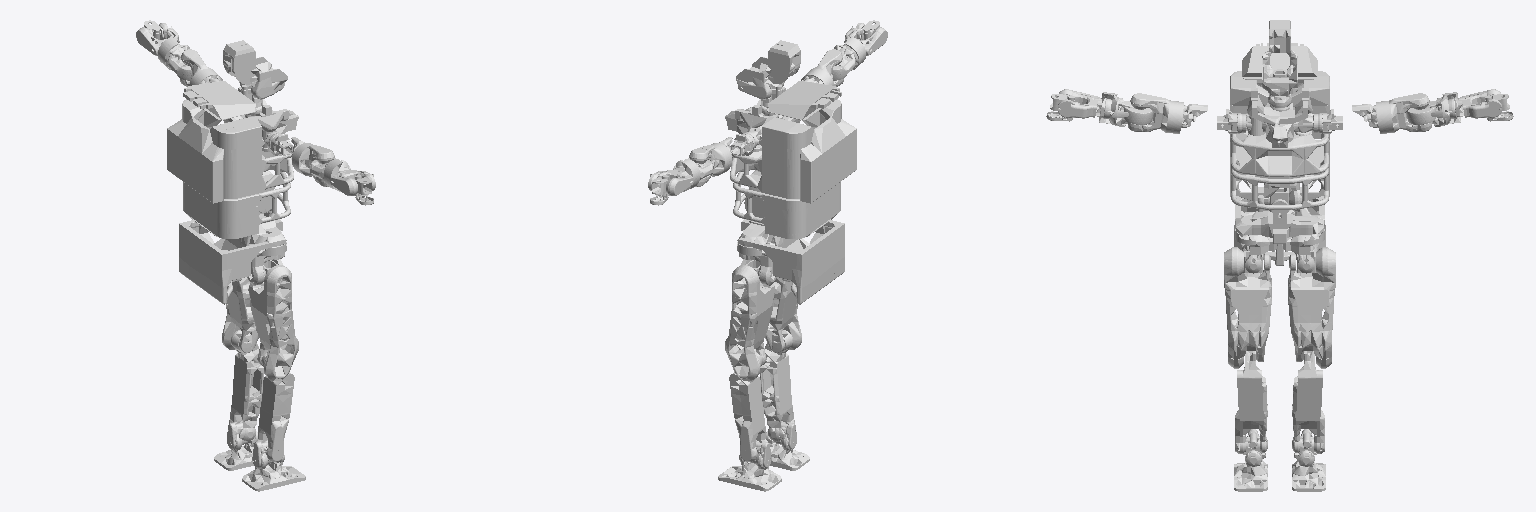
--- Facts derived from the render (not from the file) ---
3 views of the same robot in one strip: view 1: azimuth 30°, elevation 25°; view 2: azimuth 150°, elevation 25°; view 3: azimuth 270°, elevation 25° (orthographic).
Model JAXON with 57 links and 56 joints (37 revolute, 3 continuous, 16 fixed), rooted at BODY, posed all joints at 0 but 2 set to mid-range because 0 is outside their limits (LARM_JOINT2 = 1.71, RARM_JOINT2 = -1.71).
Visible links, largest first — view 1: CHEST_LINK2, BODY, RLEG_LINK2, CHEST_LINK1, LLEG_LINK3, RLEG_LINK3, HEAD_LINK1, LLEG_LINK2, RLEG_LINK5, RARM_LINK5, RARM_LINK3, LARM_LINK5 (+4 smaller); view 2: CHEST_LINK2, BODY, LLEG_LINK2, CHEST_LINK1, RLEG_LINK3, LLEG_LINK3, HEAD_LINK1, RLEG_LINK2, LLEG_LINK5, LARM_LINK5, LARM_LINK3, RARM_LINK5 (+4 smaller); view 3: CHEST_LINK2, LLEG_LINK2, RLEG_LINK2, BODY, CHEST_LINK1, LLEG_LINK3, RLEG_LINK3, HEAD_LINK1, LARM_LINK3, RARM_LINK3, LLEG_LINK5, RLEG_LINK5 (+6 smaller).
Link boxes in pixels (x1,y1,x2,y2): CHEST_LINK2: (167,81,298,203); BODY: (179,208,286,304); RLEG_LINK2: (248,265,298,380); CHEST_LINK1: (183,170,290,238); LLEG_LINK3: (229,330,263,441); RLEG_LINK3: (256,353,294,461); HEAD_LINK1: (223,40,287,99); LLEG_LINK2: (222,277,258,352); RLEG_LINK5: (242,452,305,491); RARM_LINK5: (324,159,375,195); RARM_LINK3: (292,143,334,186); LARM_LINK5: (136,23,179,69); CHEST_LINK2: (725,81,856,203); BODY: (737,219,844,304); LLEG_LINK2: (725,265,775,380); CHEST_LINK1: (733,170,840,238); RLEG_LINK3: (760,330,794,441); LLEG_LINK3: (729,353,767,461); HEAD_LINK1: (736,40,800,99); RLEG_LINK2: (765,277,801,352); LLEG_LINK5: (718,452,781,491); LARM_LINK5: (648,159,699,195); LARM_LINK3: (689,143,731,186); RARM_LINK5: (844,23,887,69); CHEST_LINK2: (1230,43,1329,176); LLEG_LINK2: (1288,247,1335,368); RLEG_LINK2: (1224,247,1271,368); BODY: (1234,188,1325,265); CHEST_LINK1: (1230,140,1329,211); LLEG_LINK3: (1292,351,1324,453); RLEG_LINK3: (1235,351,1267,453); HEAD_LINK1: (1262,20,1297,95); LARM_LINK3: (1376,93,1432,133); RARM_LINK3: (1127,93,1183,133); LLEG_LINK5: (1292,450,1325,491); RLEG_LINK5: (1234,450,1267,491).
Size in the robot's own frame: 0.4838 by 1.77 by 1.85 metres.
Meshes: 39 distinct files referenced, 32 mesh visuals loaded (32 Collada DAE); not drawn: 10 (reference not matched to a file when rendering).

robot.urdf — JAXON:
<?xml version="1.0" ?>
<!-- =================================================================================== -->
<!-- |    This document was autogenerated by xacro from [local-path]/ros/hydro/src/rtm-ros-robotics/rtmros_tutorials/hrpsys_ros_bridge_tutorials/models//JAXON.urdf.xacro | -->
<!-- |    EDITING THIS FILE BY HAND IS NOT RECOMMENDED                                 | -->
<!-- =================================================================================== -->
<robot name="JAXON" xmlns:xacro="http://ros.org/wiki/xacro" xmlns:xi="http://www.w3.org/2001/XInclude">
  <link name="BODY">
    <visual>
      <origin rpy="0 -0 0" xyz="0 0 1.0185"/>
      <geometry>
        <mesh filename="package://hrpsys_ros_bridge_tutorials/models/JAXON_meshes/BODY_mesh.dae" scale="1 1 1"/>
      </geometry>
    </visual>
    <collision>
      <origin rpy="0 -0 0" xyz="0 0 1.0185"/>
      <geometry>
        <mesh filename="package://hrpsys_ros_bridge_tutorials/models/JAXON_meshes/BODY_mesh.dae" scale="1 1 1"/>
      </geometry>
    </collision>
    <inertial>
      <mass value="22.7"/>
      <origin rpy="0 -0 0" xyz="-0.1059 -0.00067 -0.023"/>
      <inertia ixx="0.229835" ixy="0.00171" ixz="0.135708" iyy="0.535336" iyz="0.000616" izz="0.549159"/>
    </inertial>
  </link>
  <gazebo reference="BODY">
    <mu1>0.9</mu1>
    <mu2>0.9</mu2>
  </gazebo>
  <link name="CHEST_LINK0">
    <visual>
      <origin rpy="0 -0 0" xyz="0.006 0 0.128"/>
      <geometry>
        <mesh filename="package://hrpsys_ros_bridge_tutorials/models/JAXON_meshes/CHEST_LINK0_mesh.dae" scale="1 1 1"/>
      </geometry>
    </visual>
    <collision>
      <origin rpy="0 -0 0" xyz="0.006 0 0.128"/>
      <geometry>
        <mesh filename="package://hrpsys_ros_bridge_tutorials/models/JAXON_meshes/CHEST_LINK0_mesh.dae" scale="1 1 1"/>
      </geometry>
    </collision>
    <inertial>
      <mass value="0.866"/>
      <origin rpy="0 -0 0" xyz="-0.0084 0.00137 0.01359"/>
      <inertia ixx="0.00125384" ixy="0" ixz="0" iyy="0.00123407" iyz="0" izz="0.000677392"/>
    </inertial>
  </link>
  <gazebo reference="CHEST_LINK0">
    <mu1>0.9</mu1>
    <mu2>0.9</mu2>
  </gazebo>
  <link name="CHEST_LINK1">
    <visual>
      <origin rpy="0 -0 0" xyz="0 0 0.025"/>
      <geometry>
        <mesh filename="package://hrpsys_ros_bridge_tutorials/models/JAXON_meshes/CHEST_LINK1_mesh.dae" scale="1 1 1"/>
      </geometry>
    </visual>
    <collision>
      <origin rpy="0 -0 0" xyz="0 0 0.025"/>
      <geometry>
        <mesh filename="package://hrpsys_ros_bridge_tutorials/models/JAXON_meshes/CHEST_LINK1_mesh.dae" scale="1 1 1"/>
      </geometry>
    </collision>
    <inertial>
      <mass value="18.23"/>
      <origin rpy="0 -0 0" xyz="-0.111697 0.0039 0.03652"/>
      <inertia ixx="0.186526" ixy="0.003889" ixz="-0.039414" iyy="0.418012" iyz="0.001281" izz="0.477668"/>
    </inertial>
  </link>
  <gazebo reference="CHEST_LINK1">
    <mu1>0.9</mu1>
    <mu2>0.9</mu2>
  </gazebo>
  <link name="CHEST_LINK2">
    <visual>
      <origin rpy="0 -0 0" xyz="0 0 0.3085"/>
      <geometry>
        <mesh filename="package://hrpsys_ros_bridge_tutorials/models/JAXON_meshes/CHEST_LINK2_mesh.dae" scale="1 1 1"/>
      </geometry>
    </visual>
    <collision>
      <origin rpy="0 -0 0" xyz="0 0 0.3085"/>
      <geometry>
        <mesh filename="package://hrpsys_ros_bridge_tutorials/models/JAXON_meshes/CHEST_LINK2_mesh.dae" scale="1 1 1"/>
      </geometry>
    </collision>
    <inertial>
      <mass value="31.33"/>
      <origin rpy="0 -0 0" xyz="-0.13693 -0.00113 -0.05796"/>
      <inertia ixx="0.510746" ixy="0.005161" ixz="0.143334" iyy="1.09582" iyz="0.004687" izz="1.02505"/>
    </inertial>
  </link>
  <gazebo reference="CHEST_LINK2">
    <mu1>0.9</mu1>
    <mu2>0.9</mu2>
  </gazebo>
  <link name="HEAD_LINK0">
    <visual>
      <origin rpy="0 -0 0" xyz="-0.015 0 0.0835"/>
      <geometry>
        <mesh filename="package://hrpsys_ros_bridge_tutorials/models/JAXON_meshes/HEAD_LINK0_mesh.dae" scale="1 1 1"/>
      </geometry>
    </visual>
    <collision>
      <origin rpy="0 -0 0" xyz="-0.015 0 0.0835"/>
      <geometry>
        <mesh filename="package://hrpsys_ros_bridge_tutorials/models/JAXON_meshes/HEAD_LINK0_mesh.dae" scale="1 1 1"/>
      </geometry>
    </collision>
    <inertial>
      <mass value="1.086"/>
      <origin rpy="0 -0 0" xyz="-0.01227 3e-05 0.03231"/>
      <inertia ixx="0.0031" ixy="0" ixz="0" iyy="0.0035" iyz="0" izz="0.00119"/>
    </inertial>
  </link>
  <gazebo reference="HEAD_LINK0">
    <mu1>0.9</mu1>
    <mu2>0.9</mu2>
  </gazebo>
  <link name="HEAD_LINK1">
    <visual>
      <origin rpy="0 -0 0" xyz="0 0 0.102"/>
      <geometry>
        <mesh filename="package://hrpsys_ros_bridge_tutorials/models/JAXON_meshes/HEAD_LINK1_mesh.dae" scale="1 1 1"/>
      </geometry>
    </visual>
    <collision>
      <origin rpy="0 -0 0" xyz="0 0 0.102"/>
      <geometry>
        <mesh filename="package://hrpsys_ros_bridge_tutorials/models/JAXON_meshes/HEAD_LINK1_mesh.dae" scale="1 1 1"/>
      </geometry>
    </collision>
    <inertial>
      <mass value="4.274"/>
      <origin rpy="0 -0 0" xyz="0.042 0.004 0.058"/>
      <inertia ixx="0.035683" ixy="0.000877" ixz="-0.003172" iyy="0.040037" iyz="0.000652" izz="0.035345"/>
    </inertial>
  </link>
  <gazebo reference="HEAD_LINK1">
    <mu1>0.9</mu1>
    <mu2>0.9</mu2>
  </gazebo>
  <link name="LARM_LINK0">
    <visual>
      <origin rpy="0 -0 0" xyz="0 0.0875 0"/>
      <geometry>
        <mesh filename="package://hrpsys_ros_bridge_tutorials/models/JAXON_meshes/LARM_LINK0_mesh.dae" scale="1 1 1"/>
      </geometry>
    </visual>
    <collision>
      <origin rpy="0 -0 0" xyz="0 0.0875 0"/>
      <geometry>
        <mesh filename="package://hrpsys_ros_bridge_tutorials/models/JAXON_meshes/LARM_LINK0_mesh.dae" scale="1 1 1"/>
      </geometry>
    </collision>
    <inertial>
      <mass value="1.048"/>
      <origin rpy="0 -0 0" xyz="-0.01745 0.00887 -0.00015"/>
      <inertia ixx="0.0029762" ixy="0" ixz="0" iyy="0.00235085" iyz="0" izz="0.00355486"/>
    </inertial>
  </link>
  <gazebo reference="LARM_LINK0">
    <mu1>0.9</mu1>
    <mu2>0.9</mu2>
  </gazebo>
  <link name="LARM_LINK1">
    <visual>
      <origin rpy="0 -0 0" xyz="0 0.07275 0"/>
      <geometry>
        <mesh filename="package://hrpsys_ros_bridge_tutorials/models/JAXON_meshes/LARM_LINK1_mesh.dae" scale="1 1 1"/>
      </geometry>
    </visual>
    <collision>
      <origin rpy="0 -0 0" xyz="0 0.07275 0"/>
      <geometry>
        <mesh filename="package://hrpsys_ros_bridge_tutorials/models/JAXON_meshes/LARM_LINK1_mesh.dae" scale="1 1 1"/>
      </geometry>
    </collision>
    <inertial>
      <mass value="0.298"/>
      <origin rpy="0 -0 0" xyz="0.00011 0.01799 0.00288"/>
      <inertia ixx="0.000412035" ixy="0" ixz="0" iyy="0.000251611" iyz="0" izz="0.000376771"/>
    </inertial>
  </link>
  <gazebo reference="LARM_LINK1">
    <mu1>0.9</mu1>
    <mu2>0.9</mu2>
  </gazebo>
  <link name="LARM_LINK2">
    <visual>
      <origin rpy="0 -0 0" xyz="0 0.057 0"/>
      <geometry>
        <mesh filename="package://hrpsys_ros_bridge_tutorials/models/JAXON_meshes/LARM_LINK2_mesh.dae" scale="1 1 1"/>
      </geometry>
    </visual>
    <collision>
      <origin rpy="0 -0 0" xyz="0 0.057 0"/>
      <geometry>
        <mesh filename="package://hrpsys_ros_bridge_tutorials/models/JAXON_meshes/LARM_LINK2_mesh.dae" scale="1 1 1"/>
      </geometry>
    </collision>
    <inertial>
      <mass value="2.168"/>
      <origin rpy="0 -0 0" xyz="0.00845 0.00671 -0.0881"/>
      <inertia ixx="0.0127408" ixy="0" ixz="0" iyy="0.0133751" iyz="0" izz="0.00460362"/>
    </inertial>
  </link>
  <gazebo reference="LARM_LINK2">
    <mu1>0.9</mu1>
    <mu2>0.9</mu2>
  </gazebo>
  <link name="LARM_LINK3">
    <visual>
      <origin rpy="0 -0 0" xyz="0 0 -0.1965"/>
      <geometry>
        <mesh filename="package://hrpsys_ros_bridge_tutorials/models/JAXON_meshes/LARM_LINK3_mesh.dae" scale="1 1 1"/>
      </geometry>
    </visual>
    <collision>
      <origin rpy="0 -0 0" xyz="0 0 -0.1965"/>
      <geometry>
        <mesh filename="package://hrpsys_ros_bridge_tutorials/models/JAXON_meshes/LARM_LINK3_mesh.dae" scale="1 1 1"/>
      </geometry>
    </collision>
    <inertial>
      <mass value="1.315"/>
      <origin rpy="0 -0 0" xyz="0.01393 4e-05 -0.07574"/>
      <inertia ixx="0.00451716" ixy="0" ixz="0" iyy="0.0055237" iyz="0" izz="0.00217053"/>
    </inertial>
  </link>
  <gazebo reference="LARM_LINK3">
    <mu1>0.9</mu1>
    <mu2>0.9</mu2>
  </gazebo>
  <link name="LARM_LINK4">
    <visual>
      <origin rpy="0 -0 0" xyz="0 0 -0.126"/>
      <geometry>
        <mesh filename="package://hrpsys_ros_bridge_tutorials/models/JAXON_meshes/LARM_LINK4_mesh.dae" scale="1 1 1"/>
      </geometry>
    </visual>
    <collision>
      <origin rpy="0 -0 0" xyz="0 0 -0.126"/>
      <geometry>
        <mesh filename="package://hrpsys_ros_bridge_tutorials/models/JAXON_meshes/LARM_LINK4_mesh.dae" scale="1 1 1"/>
      </geometry>
    </collision>
    <inertial>
      <mass value="1.641"/>
      <origin rpy="0 -0 0" xyz="3e-05 0.00551 -0.0426"/>
      <inertia ixx="0.00665559" ixy="0" ixz="0" iyy="0.00598857" iyz="0" izz="0.00288237"/>
    </inertial>
  </link>
  <gazebo reference="LARM_LINK4">
    <mu1>0.9</mu1>
    <mu2>0.9</mu2>
  </gazebo>
  <link name="LARM_LINK5">
    <visual>
      <origin rpy="0 -0 0" xyz="0 0 -0.1275"/>
      <geometry>
        <mesh filename="package://hrpsys_ros_bridge_tutorials/models/JAXON_meshes/LARM_LINK5_mesh.dae" scale="1 1 1"/>
      </geometry>
    </visual>
    <collision>
      <origin rpy="0 -0 0" xyz="0 0 -0.1275"/>
      <geometry>
        <mesh filename="package://hrpsys_ros_bridge_tutorials/models/JAXON_meshes/LARM_LINK5_mesh.dae" scale="1 1 1"/>
      </geometry>
    </collision>
    <inertial>
      <mass value="1.305"/>
      <origin rpy="0 -0 0" xyz="0.01271 2e-05 -0.08415"/>
      <inertia ixx="0.00533939" ixy="0" ixz="0" iyy="0.00624028" iyz="0" izz="0.00205604"/>
    </inertial>
  </link>
  <gazebo reference="LARM_LINK5">
    <mu1>0.9</mu1>
    <mu2>0.9</mu2>
  </gazebo>
  <link name="LARM_LINK6">
    <visual>
      <origin rpy="0 -0 0" xyz="0 0 -0.146"/>
      <geometry>
        <mesh filename="package://hrpsys_ros_bridge_tutorials/models/JAXON_meshes/LARM_LINK6_mesh.dae" scale="1 1 1"/>
      </geometry>
    </visual>
    <collision>
      <origin rpy="0 -0 0" xyz="0 0 -0.146"/>
      <geometry>
        <mesh filename="package://hrpsys_ros_bridge_tutorials/models/JAXON_meshes/LARM_LINK6_mesh.dae" scale="1 1 1"/>
      </geometry>
    </collision>
    <inertial>
      <mass value="0.505"/>
      <origin rpy="0 -0 0" xyz="0.00013 0.01427 0.00188"/>
      <inertia ixx="0.000901789" ixy="0" ixz="0" iyy="0.000626727" iyz="0" izz="0.000593753"/>
    </inertial>
  </link>
  <gazebo reference="LARM_LINK6">
    <mu1>0.9</mu1>
    <mu2>0.9</mu2>
  </gazebo>
  <link name="RARM_LINK0">
    <visual>
      <origin rpy="0 -0 0" xyz="0 -0.0875 0"/>
      <geometry>
        <mesh filename="package://hrpsys_ros_bridge_tutorials/models/JAXON_meshes/RARM_LINK0_mesh.dae" scale="1 1 1"/>
      </geometry>
    </visual>
    <collision>
      <origin rpy="0 -0 0" xyz="0 -0.0875 0"/>
      <geometry>
        <mesh filename="package://hrpsys_ros_bridge_tutorials/models/JAXON_meshes/RARM_LINK0_mesh.dae" scale="1 1 1"/>
      </geometry>
    </collision>
    <inertial>
      <mass value="1.048"/>
      <origin rpy="0 -0 0" xyz="-0.01745 -0.00887 -0.00015"/>
      <inertia ixx="0.0029762" ixy="0" ixz="0" iyy="0.00235085" iyz="0" izz="0.00355486"/>
    </inertial>
  </link>
  <gazebo reference="RARM_LINK0">
    <mu1>0.9</mu1>
    <mu2>0.9</mu2>
  </gazebo>
  <link name="RARM_LINK1">
    <visual>
      <origin rpy="0 -0 0" xyz="0 -0.07275 0"/>
      <geometry>
        <mesh filename="package://hrpsys_ros_bridge_tutorials/models/JAXON_meshes/RARM_LINK1_mesh.dae" scale="1 1 1"/>
      </geometry>
    </visual>
    <collision>
      <origin rpy="0 -0 0" xyz="0 -0.07275 0"/>
      <geometry>
        <mesh filename="package://hrpsys_ros_bridge_tutorials/models/JAXON_meshes/RARM_LINK1_mesh.dae" scale="1 1 1"/>
      </geometry>
    </collision>
    <inertial>
      <mass value="0.298"/>
      <origin rpy="0 -0 0" xyz="0.00011 -0.01799 0.00288"/>
      <inertia ixx="0.000412035" ixy="0" ixz="0" iyy="0.000251611" iyz="0" izz="0.000376771"/>
    </inertial>
  </link>
  <gazebo reference="RARM_LINK1">
    <mu1>0.9</mu1>
    <mu2>0.9</mu2>
  </gazebo>
  <link name="RARM_LINK2">
    <visual>
      <origin rpy="0 -0 0" xyz="0 -0.057 0"/>
      <geometry>
        <mesh filename="package://hrpsys_ros_bridge_tutorials/models/JAXON_meshes/RARM_LINK2_mesh.dae" scale="1 1 1"/>
      </geometry>
    </visual>
    <collision>
      <origin rpy="0 -0 0" xyz="0 -0.057 0"/>
      <geometry>
        <mesh filename="package://hrpsys_ros_bridge_tutorials/models/JAXON_meshes/RARM_LINK2_mesh.dae" scale="1 1 1"/>
      </geometry>
    </collision>
    <inertial>
      <mass value="2.168"/>
      <origin rpy="0 -0 0" xyz="0.00845 -0.00671 -0.0881"/>
      <inertia ixx="0.0127408" ixy="0" ixz="0" iyy="0.0133751" iyz="0" izz="0.00460362"/>
    </inertial>
  </link>
  <gazebo reference="RARM_LINK2">
    <mu1>0.9</mu1>
    <mu2>0.9</mu2>
  </gazebo>
  <link name="RARM_LINK3">
    <visual>
      <origin rpy="0 -0 0" xyz="0 0 -0.1965"/>
      <geometry>
        <mesh filename="package://hrpsys_ros_bridge_tutorials/models/JAXON_meshes/RARM_LINK3_mesh.dae" scale="1 1 1"/>
      </geometry>
    </visual>
    <collision>
      <origin rpy="0 -0 0" xyz="0 0 -0.1965"/>
      <geometry>
        <mesh filename="package://hrpsys_ros_bridge_tutorials/models/JAXON_meshes/RARM_LINK3_mesh.dae" scale="1 1 1"/>
      </geometry>
    </collision>
    <inertial>
      <mass value="1.315"/>
      <origin rpy="0 -0 0" xyz="0.01393 -4e-05 -0.07574"/>
      <inertia ixx="0.00451716" ixy="0" ixz="0" iyy="0.0055237" iyz="0" izz="0.00217053"/>
    </inertial>
  </link>
  <gazebo reference="RARM_LINK3">
    <mu1>0.9</mu1>
    <mu2>0.9</mu2>
  </gazebo>
  <link name="RARM_LINK4">
    <visual>
      <origin rpy="0 -0 0" xyz="0 0 -0.126"/>
      <geometry>
        <mesh filename="package://hrpsys_ros_bridge_tutorials/models/JAXON_meshes/RARM_LINK4_mesh.dae" scale="1 1 1"/>
      </geometry>
    </visual>
    <collision>
      <origin rpy="0 -0 0" xyz="0 0 -0.126"/>
      <geometry>
        <mesh filename="package://hrpsys_ros_bridge_tutorials/models/JAXON_meshes/RARM_LINK4_mesh.dae" scale="1 1 1"/>
      </geometry>
    </collision>
    <inertial>
      <mass value="1.641"/>
      <origin rpy="0 -0 0" xyz="3e-05 -0.00551 -0.0426"/>
      <inertia ixx="0.00665559" ixy="0" ixz="0" iyy="0.00598857" iyz="0" izz="0.00288237"/>
    </inertial>
  </link>
  <gazebo reference="RARM_LINK4">
    <mu1>0.9</mu1>
    <mu2>0.9</mu2>
  </gazebo>
  <link name="RARM_LINK5">
    <visual>
      <origin rpy="0 -0 0" xyz="0 0 -0.1275"/>
      <geometry>
        <mesh filename="package://hrpsys_ros_bridge_tutorials/models/JAXON_meshes/RARM_LINK5_mesh.dae" scale="1 1 1"/>
      </geometry>
    </visual>
    <collision>
      <origin rpy="0 -0 0" xyz="0 0 -0.1275"/>
      <geometry>
        <mesh filename="package://hrpsys_ros_bridge_tutorials/models/JAXON_meshes/RARM_LINK5_mesh.dae" scale="1 1 1"/>
      </geometry>
    </collision>
    <inertial>
      <mass value="1.305"/>
      <origin rpy="0 -0 0" xyz="0.01271 -2e-05 -0.08415"/>
      <inertia ixx="0.00533939" ixy="0" ixz="0" iyy="0.00624028" iyz="0" izz="0.00205604"/>
    </inertial>
  </link>
  <gazebo reference="RARM_LINK5">
    <mu1>0.9</mu1>
    <mu2>0.9</mu2>
  </gazebo>
  <link name="RARM_LINK6">
    <visual>
      <origin rpy="0 -0 0" xyz="0 0 -0.146"/>
      <geometry>
        <mesh filename="package://hrpsys_ros_bridge_tutorials/models/JAXON_meshes/RARM_LINK6_mesh.dae" scale="1 1 1"/>
      </geometry>
    </visual>
    <collision>
      <origin rpy="0 -0 0" xyz="0 0 -0.146"/>
      <geometry>
        <mesh filename="package://hrpsys_ros_bridge_tutorials/models/JAXON_meshes/RARM_LINK6_mesh.dae" scale="1 1 1"/>
      </geometry>
    </collision>
    <inertial>
      <mass value="0.505"/>
      <origin rpy="0 -0 0" xyz="0.00013 -0.01427 0.00188"/>
      <inertia ixx="0.000901789" ixy="0" ixz="0" iyy="0.000626727" iyz="0" izz="0.000593753"/>
    </inertial>
  </link>
  <gazebo reference="RARM_LINK6">
    <mu1>0.9</mu1>
    <mu2>0.9</mu2>
  </gazebo>
  <link name="LLEG_LINK0">
    <visual>
      <origin rpy="0 -0 0" xyz="0 0.1 0.0095"/>
      <geometry>
        <mesh filename="package://hrpsys_ros_bridge_tutorials/models/JAXON_meshes/LLEG_LINK0_mesh.dae" scale="1 1 1"/>
      </geometry>
    </visual>
    <collision>
      <origin rpy="0 -0 0" xyz="0 0.1 0.0095"/>
      <geometry>
        <mesh filename="package://hrpsys_ros_bridge_tutorials/models/JAXON_meshes/LLEG_LINK0_mesh.dae" scale="1 1 1"/>
      </geometry>
    </collision>
    <inertial>
      <mass value="2.915"/>
      <origin rpy="0 -0 0" xyz="-0.02299 -0.00588 -0.07031"/>
      <inertia ixx="0.00999808" ixy="-1.99354e-06" ixz="7.22147e-07" iyy="0.00999559" iyz="3.13302e-06" izz="0.00999172"/>
    </inertial>
  </link>
  <gazebo reference="LLEG_LINK0">
    <mu1>0.9</mu1>
    <mu2>0.9</mu2>
  </gazebo>
  <link name="LLEG_LINK1">
    <visual>
      <origin rpy="0 -0 0" xyz="0 0 -0.122"/>
      <geometry>
        <mesh filename="package://hrpsys_ros_bridge_tutorials/models/JAXON_meshes/LLEG_LINK1_mesh.dae" scale="1 1 1"/>
      </geometry>
    </visual>
    <collision>
      <origin rpy="0 -0 0" xyz="0 0 -0.122"/>
      <geometry>
        <mesh filename="package://hrpsys_ros_bridge_tutorials/models/JAXON_meshes/LLEG_LINK1_mesh.dae" scale="1 1 1"/>
      </geometry>
    </collision>
    <inertial>
      <mass value="1.199"/>
      <origin rpy="0 -0 0" xyz="-0.00441 0.00696 -0.00694"/>
      <inertia ixx="0.00299879" ixy="-3.30504e-37" ixz="9.70868e-20" iyy="0.00179963" iyz="4.51014e-37" izz="0.00343603"/>
    </inertial>
  </link>
  <gazebo reference="LLEG_LINK1">
    <mu1>0.9</mu1>
    <mu2>0.9</mu2>
  </gazebo>
  <link name="LLEG_LINK2">
    <visual>
      <origin rpy="0 -0 0" xyz="0 0 -0.01"/>
      <geometry>
        <mesh filename="package://hrpsys_ros_bridge_tutorials/models/JAXON_meshes/LLEG_LINK2_mesh.dae" scale="1 1 1"/>
      </geometry>
    </visual>
    <collision>
      <origin rpy="0 -0 0" xyz="0 0 -0.01"/>
      <geometry>
        <mesh filename="package://hrpsys_ros_bridge_tutorials/models/JAXON_meshes/LLEG_LINK2_mesh.dae" scale="1 1 1"/>
      </geometry>
    </collision>
    <inertial>
      <mass value="5.783"/>
      <origin rpy="0 -0 0" xyz="0.00658 0.03431 -0.18864"/>
      <inertia ixx="0.109779" ixy="0.0002015" ixz="0.00500356" iyy="0.109973" iyz="-0.00331032" izz="0.0103577"/>
    </inertial>
  </link>
  <gazebo reference="LLEG_LINK2">
    <mu1>0.9</mu1>
    <mu2>0.9</mu2>
  </gazebo>
  <link name="LLEG_LINK3">
    <visual>
      <origin rpy="0 -0 0" xyz="0 0 -0.38"/>
      <geometry>
        <mesh filename="package://hrpsys_ros_bridge_tutorials/models/JAXON_meshes/LLEG_LINK3_mesh.dae" scale="1 1 1"/>
      </geometry>
    </visual>
    <collision>
      <origin rpy="0 -0 0" xyz="0 0 -0.38"/>
      <geometry>
        <mesh filename="package://hrpsys_ros_bridge_tutorials/models/JAXON_meshes/LLEG_LINK3_mesh.dae" scale="1 1 1"/>
      </geometry>
    </collision>
    <inertial>
      <mass value="3.156"/>
      <origin rpy="0 -0 0" xyz="0.0176 0.01611 -0.17992"/>
      <inertia ixx="0.0592962" ixy="0" ixz="0" iyy="0.0592638" iyz="0" izz="0.00799027"/>
    </inertial>
  </link>
  <gazebo reference="LLEG_LINK3">
    <mu1>0.9</mu1>
    <mu2>0.9</mu2>
  </gazebo>
  <link name="LLEG_LINK4">
    <visual>
      <origin rpy="0 -0 0" xyz="0 0 -0.38"/>
      <geometry>
        <mesh filename="package://hrpsys_ros_bridge_tutorials/models/JAXON_meshes/LLEG_LINK4_mesh.dae" scale="1 1 1"/>
      </geometry>
    </visual>
    <collision>
      <origin rpy="0 -0 0" xyz="0 0 -0.38"/>
      <geometry>
        <mesh filename="package://hrpsys_ros_bridge_tutorials/models/JAXON_meshes/LLEG_LINK4_mesh.dae" scale="1 1 1"/>
      </geometry>
    </collision>
    <inertial>
      <mass value="0.836"/>
      <origin rpy="0 -0 0" xyz="-0.00769 0.00203 -0.00714"/>
      <inertia ixx="0.0014428" ixy="0" ixz="0" iyy="0.001606" iyz="0" izz="0.00150135"/>
    </inertial>
  </link>
  <gazebo reference="LLEG_LINK4">
    <mu1>0.9</mu1>
    <mu2>0.9</mu2>
  </gazebo>
  <link name="LLEG_LINK5">
    <visual>
      <origin rpy="0 -0 0" xyz="0 0 -0.04"/>
      <geometry>
        <mesh filename="package://hrpsys_ros_bridge_tutorials/models/JAXON_meshes/LLEG_LINK5_mesh.dae" scale="1 1 1"/>
      </geometry>
    </visual>
    <collision>
      <origin rpy="0 -0 0" xyz="0 0 -0.04"/>
      <geometry>
        <mesh filename="package://hrpsys_ros_bridge_tutorials/models/JAXON_meshes/LLEG_LINK5_mesh.dae" scale="1 1 1"/>
      </geometry>
    </collision>
    <inertial>
      <mass value="1.552"/>
      <origin rpy="0 -0 0" xyz="0.00064 0.00264 -0.05633"/>
      <inertia ixx="0.00442296" ixy="0" ixz="0" iyy="0.00907896" iyz="0" izz="0.00902826"/>
    </inertial>
  </link>
  <gazebo reference="LLEG_LINK5">
    <mu1>0.9</mu1>
    <mu2>0.9</mu2>
  </gazebo>
  <link name="RLEG_LINK0">
    <visual>
      <origin rpy="0 -0 0" xyz="0 -0.1 0.0095"/>
      <geometry>
        <mesh filename="package://hrpsys_ros_bridge_tutorials/models/JAXON_meshes/RLEG_LINK0_mesh.dae" scale="1 1 1"/>
      </geometry>
    </visual>
    <collision>
      <origin rpy="0 -0 0" xyz="0 -0.1 0.0095"/>
      <geometry>
        <mesh filename="package://hrpsys_ros_bridge_tutorials/models/JAXON_meshes/RLEG_LINK0_mesh.dae" scale="1 1 1"/>
      </geometry>
    </collision>
    <inertial>
      <mass value="2.915"/>
      <origin rpy="0 -0 0" xyz="-0.02299 0.00588 -0.07031"/>
      <inertia ixx="0.00999808" ixy="-1.99354e-06" ixz="-7.22147e-07" iyy="0.00999559" iyz="-3.13302e-06" izz="0.00999172"/>
    </inertial>
  </link>
  <gazebo reference="RLEG_LINK0">
    <mu1>0.9</mu1>
    <mu2>0.9</mu2>
  </gazebo>
  <link name="RLEG_LINK1">
    <visual>
      <origin rpy="0 -0 0" xyz="0 0 -0.122"/>
      <geometry>
        <mesh filename="package://hrpsys_ros_bridge_tutorials/models/JAXON_meshes/RLEG_LINK1_mesh.dae" scale="1 1 1"/>
      </geometry>
    </visual>
    <collision>
      <origin rpy="0 -0 0" xyz="0 0 -0.122"/>
      <geometry>
        <mesh filename="package://hrpsys_ros_bridge_tutorials/models/JAXON_meshes/RLEG_LINK1_mesh.dae" scale="1 1 1"/>
      </geometry>
    </collision>
    <inertial>
      <mass value="1.199"/>
      <origin rpy="0 -0 0" xyz="-0.00441 -0.00696 -0.00694"/>
      <inertia ixx="0.00299879" ixy="3.30504e-37" ixz="9.70868e-20" iyy="0.00179963" iyz="-4.51014e-37" izz="0.00343603"/>
    </inertial>
  </link>
  <gazebo reference="RLEG_LINK1">
    <mu1>0.9</mu1>
    <mu2>0.9</mu2>
  </gazebo>
  <link name="RLEG_LINK2">
    <visual>
      <origin rpy="0 -0 0" xyz="0 0 -0.01"/>
      <geometry>
        <mesh filename="package://hrpsys_ros_bridge_tutorials/models/JAXON_meshes/RLEG_LINK2_mesh.dae" scale="1 1 1"/>
      </geometry>
    </visual>
    <collision>
      <origin rpy="0 -0 0" xyz="0 0 -0.01"/>
      <geometry>
        <mesh filename="package://hrpsys_ros_bridge_tutorials/models/JAXON_meshes/RLEG_LINK2_mesh.dae" scale="1 1 1"/>
      </geometry>
    </collision>
    <inertial>
      <mass value="5.783"/>
      <origin rpy="0 -0 0" xyz="0.00658 -0.03431 -0.18864"/>
      <inertia ixx="0.109779" ixy="-0.0002015" ixz="0.00500356" iyy="0.109973" iyz="0.00331032" izz="0.0103577"/>
    </inertial>
  </link>
  <gazebo reference="RLEG_LINK2">
    <mu1>0.9</mu1>
    <mu2>0.9</mu2>
  </gazebo>
  <link name="RLEG_LINK3">
    <visual>
      <origin rpy="0 -0 0" xyz="0 0 -0.38"/>
      <geometry>
        <mesh filename="package://hrpsys_ros_bridge_tutorials/models/JAXON_meshes/RLEG_LINK3_mesh.dae" scale="1 1 1"/>
      </geometry>
    </visual>
    <collision>
      <origin rpy="0 -0 0" xyz="0 0 -0.38"/>
      <geometry>
        <mesh filename="package://hrpsys_ros_bridge_tutorials/models/JAXON_meshes/RLEG_LINK3_mesh.dae" scale="1 1 1"/>
      </geometry>
    </collision>
    <inertial>
      <mass value="3.156"/>
      <origin rpy="0 -0 0" xyz="0.0176 -0.01611 -0.17992"/>
      <inertia ixx="0.0592962" ixy="0" ixz="0" iyy="0.0592638" iyz="0" izz="0.00799027"/>
    </inertial>
  </link>
  <gazebo reference="RLEG_LINK3">
    <mu1>0.9</mu1>
    <mu2>0.9</mu2>
  </gazebo>
  <link name="RLEG_LINK4">
    <visual>
      <origin rpy="0 -0 0" xyz="0 0 -0.38"/>
      <geometry>
        <mesh filename="package://hrpsys_ros_bridge_tutorials/models/JAXON_meshes/RLEG_LINK4_mesh.dae" scale="1 1 1"/>
      </geometry>
    </visual>
    <collision>
      <origin rpy="0 -0 0" xyz="0 0 -0.38"/>
      <geometry>
        <mesh filename="package://hrpsys_ros_bridge_tutorials/models/JAXON_meshes/RLEG_LINK4_mesh.dae" scale="1 1 1"/>
      </geometry>
    </collision>
    <inertial>
      <mass value="0.836"/>
      <origin rpy="0 -0 0" xyz="-0.00769 -0.00203 -0.00714"/>
      <inertia ixx="0.0014428" ixy="0" ixz="0" iyy="0.001606" iyz="0" izz="0.00150135"/>
    </inertial>
  </link>
  <gazebo reference="RLEG_LINK4">
    <mu1>0.9</mu1>
    <mu2>0.9</mu2>
  </gazebo>
  <link name="RLEG_LINK5">
    <visual>
      <origin rpy="0 -0 0" xyz="0 0 -0.04"/>
      <geometry>
        <mesh filename="package://hrpsys_ros_bridge_tutorials/models/JAXON_meshes/RLEG_LINK5_mesh.dae" scale="1 1 1"/>
      </geometry>
    </visual>
    <collision>
      <origin rpy="0 -0 0" xyz="0 0 -0.04"/>
      <geometry>
        <mesh filename="package://hrpsys_ros_bridge_tutorials/models/JAXON_meshes/RLEG_LINK5_mesh.dae" scale="1 1 1"/>
      </geometry>
    </collision>
    <inertial>
      <mass value="1.552"/>
      <origin rpy="0 -0 0" xyz="0.00064 -0.00264 -0.05633"/>
      <inertia ixx="0.00442296" ixy="0" ixz="0" iyy="0.00907896" iyz="0" izz="0.00902826"/>
    </inertial>
  </link>
  <gazebo reference="RLEG_LINK5">
    <mu1>0.9</mu1>
    <mu2>0.9</mu2>
  </gazebo>
  <joint name="CHEST_JOINT0" type="revolute">
    <parent link="BODY"/>
    <child link="CHEST_LINK0"/>
    <origin rpy="0 -0 0 " xyz="0.006 0 0.128"/>
    <axis xyz="1 0 0"/>
    <limit effort="787.2" lower="-0.198551" upper="0.198551" velocity="4"/>
    <dynamics damping="0.2" friction="0"/>
  </joint>
  <transmission name="CHEST_JOINT0_trans" type="pr2_mechanism_model/SimpleTransmission">
    <actuator name="CHEST_JOINT0_motor"/>
    <joint name="CHEST_JOINT0"/>
    <mechanicalReduction>1</mechanicalReduction>
  </transmission>
  <gazebo reference="CHEST_JOINT0">
    <cfmDamping>0.4</cfmDamping>
  </gazebo>
  <joint name="CHEST_JOINT1" type="revolute">
    <parent link="CHEST_LINK0"/>
    <child link="CHEST_LINK1"/>
    <origin rpy="0 -0 0 " xyz="0 0 0.025"/>
    <axis xyz="0 1 0"/>
    <limit effort="787.2" lower="-0.0523599" upper="0.610865" velocity="4"/>
    <dynamics damping="0.2" friction="0"/>
  </joint>
  <transmission name="CHEST_JOINT1_trans" type="pr2_mechanism_model/SimpleTransmission">
    <actuator name="CHEST_JOINT1_motor"/>
    <joint name="CHEST_JOINT1"/>
    <mechanicalReduction>1</mechanicalReduction>
  </transmission>
  <gazebo reference="CHEST_JOINT1">
    <cfmDamping>0.4</cfmDamping>
  </gazebo>
  <joint name="CHEST_JOINT2" type="revolute">
    <parent link="CHEST_LINK1"/>
    <child link="CHEST_LINK2"/>
    <origin rpy="0 -0 0 " xyz="0 0 0.3085"/>
    <axis xyz="0 0 1"/>
    <limit effort="393.6" lower="-1.0566" upper="1.0566" velocity="4"/>
    <dynamics damping="0.2" friction="0"/>
  </joint>
  <transmission name="CHEST_JOINT2_trans" type="pr2_mechanism_model/SimpleTransmission">
    <actuator name="CHEST_JOINT2_motor"/>
    <joint name="CHEST_JOINT2"/>
    <mechanicalReduction>1</mechanicalReduction>
  </transmission>
  <gazebo reference="CHEST_JOINT2">
    <cfmDamping>0.4</cfmDamping>
  </gazebo>
  <joint name="HEAD_JOINT0" type="revolute">
    <parent link="CHEST_LINK2"/>
    <child link="HEAD_LINK0"/>
    <origin rpy="0 -0 0 " xyz="-0.015 0 0.0835"/>
    <axis xyz="0 0 1"/>
    <limit effort="472.32" lower="-0.575959" upper="0.541052" velocity="4"/>
    <dynamics damping="0.2" friction="0"/>
  </joint>
  <transmission name="HEAD_JOINT0_trans" type="pr2_mechanism_model/SimpleTransmission">
    <actuator name="HEAD_JOINT0_motor"/>
    <joint name="HEAD_JOINT0"/>
    <mechanicalReduction>1</mechanicalReduction>
  </transmission>
  <gazebo reference="HEAD_JOINT0">
    <cfmDamping>0.4</cfmDamping>
  </gazebo>
  <joint name="HEAD_JOINT1" type="revolute">
    <parent link="HEAD_LINK0"/>
    <child link="HEAD_LINK1"/>
    <origin rpy="0 -0 0 " xyz="0 0 0.102"/>
    <axis xyz="0 1 0"/>
    <limit effort="472.32" lower="-0.575959" upper="0.698132" velocity="4"/>
    <dynamics damping="0.2" friction="0"/>
  </joint>
  <transmission name="HEAD_JOINT1_trans" type="pr2_mechanism_model/SimpleTransmission">
    <actuator name="HEAD_JOINT1_motor"/>
    <joint name="HEAD_JOINT1"/>
    <mechanicalReduction>1</mechanicalReduction>
  </transmission>
  <gazebo reference="HEAD_JOINT1">
    <cfmDamping>0.4</cfmDamping>
  </gazebo>
  <joint name="LARM_JOINT0" type="revolute">
    <parent link="CHEST_LINK2"/>
    <child link="LARM_LINK0"/>
    <origin rpy="0 -0 0 " xyz="0 0.0875 0"/>
    <axis xyz="0 0 1"/>
    <limit effort="472.32" lower="-1.4208" upper="0.306849" velocity="4"/>
    <dynamics damping="0.2" friction="0"/>
  </joint>
  <transmission name="LARM_JOINT0_trans" type="pr2_mechanism_model/SimpleTransmission">
    <actuator name="LARM_JOINT0_motor"/>
    <joint name="LARM_JOINT0"/>
    <mechanicalReduction>1</mechanicalReduction>
  </transmission>
  <gazebo reference="LARM_JOINT0">
    <cfmDamping>0.4</cfmDamping>
  </gazebo>
  <joint name="LARM_JOINT1" type="revolute">
    <parent link="LARM_LINK0"/>
    <child link="LARM_LINK1"/>
    <origin rpy="0 -0 0 " xyz="0 0.07275 0"/>
    <axis xyz="0 1 0"/>
    <limit effort="472.32" lower="-3.14159" upper="3.14159" velocity="4"/>
    <dynamics damping="0.2" friction="0"/>
  </joint>
  <transmission name="LARM_JOINT1_trans" type="pr2_mechanism_model/SimpleTransmission">
    <actuator name="LARM_JOINT1_motor"/>
    <joint name="LARM_JOINT1"/>
    <mechanicalReduction>1</mechanicalReduction>
  </transmission>
  <gazebo reference="LARM_JOINT1">
    <cfmDamping>0.4</cfmDamping>
  </gazebo>
  <joint name="LARM_JOINT2" type="revolute">
    <parent link="LARM_LINK1"/>
    <child link="LARM_LINK2"/>
    <origin rpy="0 -0 0 " xyz="0 0.057 0"/>
    <axis xyz="1 0 0"/>
    <limit effort="472.32" lower="0.2762" upper="3.14159" velocity="4"/>
    <dynamics damping="0.2" friction="0"/>
  </joint>
  <transmission name="LARM_JOINT2_trans" type="pr2_mechanism_model/SimpleTransmission">
    <actuator name="LARM_JOINT2_motor"/>
    <joint name="LARM_JOINT2"/>
    <mechanicalReduction>1</mechanicalReduction>
  </transmission>
  <gazebo reference="LARM_JOINT2">
    <cfmDamping>0.4</cfmDamping>
  </gazebo>
  <joint name="LARM_JOINT3" type="revolute">
    <parent link="LARM_LINK2"/>
    <child link="LARM_LINK3"/>
    <origin rpy="0 -0 0 " xyz="0 0 -0.1965"/>
    <axis xyz="0 0 1"/>
    <limit effort="472.32" lower="-3.14159" upper="3.14159" velocity="4"/>
    <dynamics damping="0.2" friction="0"/>
  </joint>
  <transmission name="LARM_JOINT3_trans" type="pr2_mechanism_model/SimpleTransmission">
    <actuator name="LARM_JOINT3_motor"/>
    <joint name="LARM_JOINT3"/>
    <mechanicalReduction>1</mechanicalReduction>
  </transmission>
  <gazebo reference="LARM_JOINT3">
    <cfmDamping>0.4</cfmDamping>
  </gazebo>
  <joint name="LARM_JOINT4" type="revolute">
    <parent link="LARM_LINK3"/>
    <child link="LARM_LINK4"/>
    <origin rpy="0 -0 0 " xyz="0 0 -0.126"/>
    <axis xyz="0 1 0"/>
    <limit effort="472.32" lower="-2.19006" upper="1.0472" velocity="4"/>
    <dynamics damping="0.2" friction="0"/>
  </joint>
  <transmission name="LARM_JOINT4_trans" type="pr2_mechanism_model/SimpleTransmission">
    <actuator name="LARM_JOINT4_motor"/>
    <joint name="LARM_JOINT4"/>
    <mechanicalReduction>1</mechanicalReduction>
  </transmission>
  <gazebo reference="LARM_JOINT4">
    <cfmDamping>0.4</cfmDamping>
  </gazebo>
  <joint name="LARM_JOINT5" type="revolute">
    <parent link="LARM_LINK4"/>
    <child link="LARM_LINK5"/>
    <origin rpy="0 -0 0 " xyz="0 0 -0.1275"/>
    <axis xyz="0 0 1"/>
    <limit effort="472.32" lower="-3.14159" upper="3.14159" velocity="4"/>
    <dynamics damping="0.2" friction="0"/>
  </joint>
  <transmission name="LARM_JOINT5_trans" type="pr2_mechanism_model/SimpleTransmission">
    <actuator name="LARM_JOINT5_motor"/>
    <joint name="LARM_JOINT5"/>
    <mechanicalReduction>1</mechanicalReduction>
  </transmission>
  <gazebo reference="LARM_JOINT5">
    <cfmDamping>0.4</cfmDamping>
  </gazebo>
  <joint name="LARM_JOINT6" type="revolute">
    <parent link="LARM_LINK5"/>
    <child link="LARM_LINK6"/>
    <origin rpy="0 -0 0 " xyz="0 0 -0.146"/>
    <axis xyz="1 0 0"/>
    <limit effort="472.32" lower="-1.54494" upper="1.5708" velocity="4"/>
    <dynamics damping="0.2" friction="0"/>
  </joint>
  <transmission name="LARM_JOINT6_trans" type="pr2_mechanism_model/SimpleTransmission">
    <actuator name="LARM_JOINT6_motor"/>
    <joint name="LARM_JOINT6"/>
    <mechanicalReduction>1</mechanicalReduction>
  </transmission>
  <gazebo reference="LARM_JOINT6">
    <cfmDamping>0.4</cfmDamping>
  </gazebo>
  <joint name="LARM_JOINT7" type="revolute">
    <parent link="LARM_LINK6"/>
    <child link="LARM_LINK7"/>
    <origin rpy="0 -0 0 " xyz="0 0 -0.04"/>
    <axis xyz="0 1 0"/>
    <limit effort="475.272" lower="-1.41372" upper="1.0472" velocity="4"/>
    <dynamics damping="0.2" friction="0"/>
  </joint>
  <transmission name="LARM_JOINT7_trans" type="pr2_mechanism_model/SimpleTransmission">
    <actuator name="LARM_JOINT7_motor"/>
    <joint name="LARM_JOINT7"/>
    <mechanicalReduction>1</mechanicalReduction>
  </transmission>
  <gazebo reference="LARM_JOINT7">
    <cfmDamping>0.4</cfmDamping>
  </gazebo>
  <joint name="RARM_JOINT0" type="revolute">
    <parent link="CHEST_LINK2"/>
    <child link="RARM_LINK0"/>
    <origin rpy="0 -0 0 " xyz="0 -0.0875 0"/>
    <axis xyz="0 0 1"/>
    <limit effort="472.32" lower="-0.306849" upper="1.4208" velocity="4"/>
    <dynamics damping="0.2" friction="0"/>
  </joint>
  <transmission name="RARM_JOINT0_trans" type="pr2_mechanism_model/SimpleTransmission">
    <actuator name="RARM_JOINT0_motor"/>
    <joint name="RARM_JOINT0"/>
    <mechanicalReduction>1</mechanicalReduction>
  </transmission>
  <gazebo reference="RARM_JOINT0">
    <cfmDamping>0.4</cfmDamping>
  </gazebo>
  <joint name="RARM_JOINT1" type="revolute">
    <parent link="RARM_LINK0"/>
    <child link="RARM_LINK1"/>
    <origin rpy="0 -0 0 " xyz="0 -0.07275 0"/>
    <axis xyz="0 1 0"/>
    <limit effort="472.32" lower="-3.14159" upper="3.14159" velocity="4"/>
    <dynamics damping="0.2" friction="0"/>
  </joint>
  <transmission name="RARM_JOINT1_trans" type="pr2_mechanism_model/SimpleTransmission">
    <actuator name="RARM_JOINT1_motor"/>
    <joint name="RARM_JOINT1"/>
    <mechanicalReduction>1</mechanicalReduction>
  </transmission>
  <gazebo reference="RARM_JOINT1">
    <cfmDamping>0.4</cfmDamping>
  </gazebo>
  <joint name="RARM_JOINT2" type="revolute">
    <parent link="RARM_LINK1"/>
    <child link="RARM_LINK2"/>
    <origin rpy="0 -0 0 " xyz="0 -0.057 0"/>
    <axis xyz="1 0 0"/>
    <limit effort="472.32" lower="-3.14159" upper="-0.2762" velocity="4"/>
    <dynamics damping="0.2" friction="0"/>
  </joint>
  <transmission name="RARM_JOINT2_trans" type="pr2_mechanism_model/SimpleTransmission">
    <actuator name="RARM_JOINT2_motor"/>
    <joint name="RARM_JOINT2"/>
    <mechanicalReduction>1</mechanicalReduction>
  </transmission>
  <gazebo reference="RARM_JOINT2">
    <cfmDamping>0.4</cfmDamping>
  </gazebo>
  <joint name="RARM_JOINT3" type="revolute">
    <parent link="RARM_LINK2"/>
    <child link="RARM_LINK3"/>
    <origin rpy="0 -0 0 " xyz="0 0 -0.1965"/>
    <axis xyz="0 0 1"/>
    <limit effort="472.32" lower="-3.14159" upper="3.14159" velocity="4"/>
    <dynamics damping="0.2" friction="0"/>
  </joint>
  <transmission name="RARM_JOINT3_trans" type="pr2_mechanism_model/SimpleTransmission">
    <actuator name="RARM_JOINT3_motor"/>
    <joint name="RARM_JOINT3"/>
    <mechanicalReduction>1</mechanicalReduction>
  </transmission>
  <gazebo reference="RARM_JOINT3">
    <cfmDamping>0.4</cfmDamping>
  </gazebo>
  <joint name="RARM_JOINT4" type="revolute">
    <parent link="RARM_LINK3"/>
    <child link="RARM_LINK4"/>
    <origin rpy="0 -0 0 " xyz="0 0 -0.126"/>
    <axis xyz="0 1 0"/>
    <limit effort="472.32" lower="-2.19006" upper="1.0472" velocity="4"/>
    <dynamics damping="0.2" friction="0"/>
  </joint>
  <transmission name="RARM_JOINT4_trans" type="pr2_mechanism_model/SimpleTransmission">
    <actuator name="RARM_JOINT4_motor"/>
    <joint name="RARM_JOINT4"/>
    <mechanicalReduction>1</mechanicalReduction>
  </transmission>
  <gazebo reference="RARM_JOINT4">
    <cfmDamping>0.4</cfmDamping>
  </gazebo>
  <joint name="RARM_JOINT5" type="revolute">
    <parent link="RARM_LINK4"/>
    <child link="RARM_LINK5"/>
    <origin rpy="0 -0 0 " xyz="0 0 -0.1275"/>
    <axis xyz="0 0 1"/>
    <limit effort="472.32" lower="-3.14159" upper="3.14159" velocity="4"/>
    <dynamics damping="0.2" friction="0"/>
  </joint>
  <transmission name="RARM_JOINT5_trans" type="pr2_mechanism_model/SimpleTransmission">
    <actuator name="RARM_JOINT5_motor"/>
    <joint name="RARM_JOINT5"/>
    <mechanicalReduction>1</mechanicalReduction>
  </transmission>
  <gazebo reference="RARM_JOINT5">
    <cfmDamping>0.4</cfmDamping>
  </gazebo>
  <joint name="RARM_JOINT6" type="revolute">
    <parent link="RARM_LINK5"/>
    <child link="RARM_LINK6"/>
    <origin rpy="0 -0 0 " xyz="0 0 -0.146"/>
    <axis xyz="1 0 0"/>
    <limit effort="472.32" lower="-1.5708" upper="1.54494" velocity="4"/>
    <dynamics damping="0.2" friction="0"/>
  </joint>
  <transmission name="RARM_JOINT6_trans" type="pr2_mechanism_model/SimpleTransmission">
    <actuator name="RARM_JOINT6_motor"/>
    <joint name="RARM_JOINT6"/>
    <mechanicalReduction>1</mechanicalReduction>
  </transmission>
  <gazebo reference="RARM_JOINT6">
    <cfmDamping>0.4</cfmDamping>
  </gazebo>
  <joint name="RARM_JOINT7" type="revolute">
    <parent link="RARM_LINK6"/>
    <child link="RARM_LINK7"/>
    <origin rpy="0 -0 0 " xyz="0 0 -0.04"/>
    <axis xyz="0 1 0"/>
    <limit effort="475.272" lower="-1.41372" upper="1.0472" velocity="4"/>
    <dynamics damping="0.2" friction="0"/>
  </joint>
  <transmission name="RARM_JOINT7_trans" type="pr2_mechanism_model/SimpleTransmission">
    <actuator name="RARM_JOINT7_motor"/>
    <joint name="RARM_JOINT7"/>
    <mechanicalReduction>1</mechanicalReduction>
  </transmission>
  <gazebo reference="RARM_JOINT7">
    <cfmDamping>0.4</cfmDamping>
  </gazebo>
  <joint name="LLEG_JOINT0" type="revolute">
    <parent link="BODY"/>
    <child link="LLEG_LINK0"/>
    <origin rpy="0 -0 0 " xyz="0 0.1 0.0095"/>
    <axis xyz="0 0 1"/>
    <limit effort="246" lower="-1.0972" upper="1.02662" velocity="17"/>
    <dynamics damping="0.2" friction="0"/>
  </joint>
  <transmission name="LLEG_JOINT0_trans" type="pr2_mechanism_model/SimpleTransmission">
    <actuator name="LLEG_JOINT0_motor"/>
    <joint name="LLEG_JOINT0"/>
    <mechanicalReduction>1</mechanicalReduction>
  </transmission>
  <gazebo reference="LLEG_JOINT0">
    <cfmDamping>0.4</cfmDamping>
  </gazebo>
  <joint name="LLEG_JOINT1" type="revolute">
    <parent link="LLEG_LINK0"/>
    <child link="LLEG_LINK1"/>
    <origin rpy="0 -0 0 " xyz="0 0 -0.122"/>
    <axis xyz="1 0 0"/>
    <limit effort="393.6" lower="-0.523599" upper="0.725029" velocity="17"/>
    <dynamics damping="0.2" friction="0"/>
  </joint>
  <transmission name="LLEG_JOINT1_trans" type="pr2_mechanism_model/SimpleTransmission">
    <actuator name="LLEG_JOINT1_motor"/>
    <joint name="LLEG_JOINT1"/>
    <mechanicalReduction>1</mechanicalReduction>
  </transmission>
  <gazebo reference="LLEG_JOINT1">
    <cfmDamping>0.4</cfmDamping>
  </gazebo>
  <joint name="LLEG_JOINT2" type="revolute">
    <parent link="LLEG_LINK1"/>
    <child link="LLEG_LINK2"/>
    <origin rpy="0 -0 0 " xyz="0 0 -0.01"/>
    <axis xyz="0 1 0"/>
    <limit effort="492" lower="-2.11843" upper="0.785398" velocity="17"/>
    <dynamics damping="0.2" friction="0"/>
  </joint>
  <transmission name="LLEG_JOINT2_trans" type="pr2_mechanism_model/SimpleTransmission">
    <actuator name="LLEG_JOINT2_motor"/>
    <joint name="LLEG_JOINT2"/>
    <mechanicalReduction>1</mechanicalReduction>
  </transmission>
  <gazebo reference="LLEG_JOINT2">
    <cfmDamping>0.4</cfmDamping>
  </gazebo>
  <joint name="LLEG_JOINT3" type="revolute">
    <parent link="LLEG_LINK2"/>
    <child link="LLEG_LINK3"/>
    <origin rpy="0 -0 0 " xyz="0 0 -0.38"/>
    <axis xyz="0 1 0"/>
    <limit effort="492" lower="0" upper="2.77419" velocity="17"/>
    <dynamics damping="0.2" friction="0"/>
  </joint>
  <transmission name="LLEG_JOINT3_trans" type="pr2_mechanism_model/SimpleTransmission">
    <actuator name="LLEG_JOINT3_motor"/>
    <joint name="LLEG_JOINT3"/>
    <mechanicalReduction>1</mechanicalReduction>
  </transmission>
  <gazebo reference="LLEG_JOINT3">
    <cfmDamping>0.4</cfmDamping>
  </gazebo>
  <joint name="LLEG_JOINT4" type="revolute">
    <parent link="LLEG_LINK3"/>
    <child link="LLEG_LINK4"/>
    <origin rpy="0 -0 0 " xyz="0 0 -0.38"/>
    <axis xyz="0 1 0"/>
    <limit effort="295.2" lower="-1.38564" upper="1.47343" velocity="17"/>
    <dynamics damping="0.2" friction="0"/>
  </joint>
  <transmission name="LLEG_JOINT4_trans" type="pr2_mechanism_model/SimpleTransmission">
    <actuator name="LLEG_JOINT4_motor"/>
    <joint name="LLEG_JOINT4"/>
    <mechanicalReduction>1</mechanicalReduction>
  </transmission>
  <gazebo reference="LLEG_JOINT4">
    <cfmDamping>0.4</cfmDamping>
  </gazebo>
  <joint name="LLEG_JOINT5" type="revolute">
    <parent link="LLEG_LINK4"/>
    <child link="LLEG_LINK5"/>
    <origin rpy="0 -0 0 " xyz="0 0 -0.04"/>
    <axis xyz="1 0 0"/>
    <limit effort="247.537" lower="-1.0472" upper="1.0472" velocity="17"/>
    <dynamics damping="0.2" friction="0"/>
  </joint>
  <transmission name="LLEG_JOINT5_trans" type="pr2_mechanism_model/SimpleTransmission">
    <actuator name="LLEG_JOINT5_motor"/>
    <joint name="LLEG_JOINT5"/>
    <mechanicalReduction>1</mechanicalReduction>
  </transmission>
  <gazebo reference="LLEG_JOINT5">
    <cfmDamping>0.4</cfmDamping>
  </gazebo>
  <joint name="RLEG_JOINT0" type="revolute">
    <parent link="BODY"/>
    <child link="RLEG_LINK0"/>
    <origin rpy="0 -0 0 " xyz="0 -0.1 0.0095"/>
    <axis xyz="0 0 1"/>
    <limit effort="246" lower="-1.02662" upper="1.0972" velocity="17"/>
    <dynamics damping="0.2" friction="0"/>
  </joint>
  <transmission name="RLEG_JOINT0_trans" type="pr2_mechanism_model/SimpleTransmission">
    <actuator name="RLEG_JOINT0_motor"/>
    <joint name="RLEG_JOINT0"/>
    <mechanicalReduction>1</mechanicalReduction>
  </transmission>
  <gazebo reference="RLEG_JOINT0">
    <cfmDamping>0.4</cfmDamping>
  </gazebo>
  <joint name="RLEG_JOINT1" type="revolute">
    <parent link="RLEG_LINK0"/>
    <child link="RLEG_LINK1"/>
    <origin rpy="0 -0 0 " xyz="0 0 -0.122"/>
    <axis xyz="1 0 0"/>
    <limit effort="393.6" lower="-0.725029" upper="0.523599" velocity="17"/>
    <dynamics damping="0.2" friction="0"/>
  </joint>
  <transmission name="RLEG_JOINT1_trans" type="pr2_mechanism_model/SimpleTransmission">
    <actuator name="RLEG_JOINT1_motor"/>
    <joint name="RLEG_JOINT1"/>
    <mechanicalReduction>1</mechanicalReduction>
  </transmission>
  <gazebo reference="RLEG_JOINT1">
    <cfmDamping>0.4</cfmDamping>
  </gazebo>
  <joint name="RLEG_JOINT2" type="revolute">
    <parent link="RLEG_LINK1"/>
    <child link="RLEG_LINK2"/>
    <origin rpy="0 -0 0 " xyz="0 0 -0.01"/>
    <axis xyz="0 1 0"/>
    <limit effort="492" lower="-2.11843" upper="0.785398" velocity="17"/>
    <dynamics damping="0.2" friction="0"/>
  </joint>
  <transmission name="RLEG_JOINT2_trans" type="pr2_mechanism_model/SimpleTransmission">
    <actuator name="RLEG_JOINT2_motor"/>
    <joint name="RLEG_JOINT2"/>
    <mechanicalReduction>1</mechanicalReduction>
  </transmission>
  <gazebo reference="RLEG_JOINT2">
    <cfmDamping>0.4</cfmDamping>
  </gazebo>
  <joint name="RLEG_JOINT3" type="revolute">
    <parent link="RLEG_LINK2"/>
    <child link="RLEG_LINK3"/>
    <origin rpy="0 -0 0 " xyz="0 0 -0.38"/>
    <axis xyz="0 1 0"/>
    <limit effort="492" lower="0" upper="2.77419" velocity="17"/>
    <dynamics damping="0.2" friction="0"/>
  </joint>
  <transmission name="RLEG_JOINT3_trans" type="pr2_mechanism_model/SimpleTransmission">
    <actuator name="RLEG_JOINT3_motor"/>
    <joint name="RLEG_JOINT3"/>
    <mechanicalReduction>1</mechanicalReduction>
  </transmission>
  <gazebo reference="RLEG_JOINT3">
    <cfmDamping>0.4</cfmDamping>
  </gazebo>
  <joint name="RLEG_JOINT4" type="revolute">
    <parent link="RLEG_LINK3"/>
    <child link="RLEG_LINK4"/>
    <origin rpy="0 -0 0 " xyz="0 0 -0.38"/>
    <axis xyz="0 1 0"/>
    <limit effort="295.2" lower="-1.38564" upper="1.47343" velocity="17"/>
    <dynamics damping="0.2" friction="0"/>
  </joint>
  <transmission name="RLEG_JOINT4_trans" type="pr2_mechanism_model/SimpleTransmission">
    <actuator name="RLEG_JOINT4_motor"/>
    <joint name="RLEG_JOINT4"/>
    <mechanicalReduction>1</mechanicalReduction>
  </transmission>
  <gazebo reference="RLEG_JOINT4">
    <cfmDamping>0.4</cfmDamping>
  </gazebo>
  <joint name="RLEG_JOINT5" type="revolute">
    <parent link="RLEG_LINK4"/>
    <child link="RLEG_LINK5"/>
    <origin rpy="0 -0 0 " xyz="0 0 -0.04"/>
    <axis xyz="1 0 0"/>
    <limit effort="247.537" lower="-1.0472" upper="1.0472" velocity="17"/>
    <dynamics damping="0.2" friction="0"/>
  </joint>
  <transmission name="RLEG_JOINT5_trans" type="pr2_mechanism_model/SimpleTransmission">
    <actuator name="RLEG_JOINT5_motor"/>
    <joint name="RLEG_JOINT5"/>
    <mechanicalReduction>1</mechanicalReduction>
  </transmission>
  <gazebo reference="RLEG_JOINT5">
    <cfmDamping>0.4</cfmDamping>
  </gazebo>
  <!-- -->
  <link name="LARM_LINK7">
    <visual>
      <origin rpy="0 -0 0" xyz="0 0.0 0"/>
      <geometry>
        <mesh filename="package://hrpsys_ros_bridge_tutorials/models/JAXON_meshes/l_hand_attached_link.dae" scale="1 1 1"/>
      </geometry>
    </visual>
    <collision>
      <origin rpy="0 -0 0" xyz="0 0.0 0"/>
      <geometry>
        <mesh filename="package://hrpsys_ros_bridge_tutorials/models/JAXON_meshes/l_hand_attached_link.dae" scale="1 1 1"/>
      </geometry>
    </collision>
    <inertial>
      <!-- mass propaties should be corrected -->
      <mass value="4.219"/>
      <origin rpy="0 -0 0" xyz="-0.02359 0.12884 -0.02825"/>
      <inertia ixx="0.0527968" ixy="0" ixz="0" iyy="0.057042" iyz="0" izz="0.0492541"/>
    </inertial>
  </link>
  <gazebo reference="LARM_LINK7">
    <mu1>0.9</mu1>
    <mu2>0.9</mu2>
  </gazebo>
  <!-- -->
  <link name="RARM_LINK7">
    <visual>
      <origin rpy="0 -0 0" xyz="0 0 0"/>
      <geometry>
        <mesh filename="package://hrpsys_ros_bridge_tutorials/models/JAXON_meshes/r_hand_attached_link.dae" scale="1 1 1"/>
      </geometry>
    </visual>
    <collision>
      <origin rpy="0 -0 0" xyz="0 0 0"/>
      <geometry>
        <mesh filename="package://hrpsys_ros_bridge_tutorials/models/JAXON_meshes/r_hand_attached_link.dae" scale="1 1 1"/>
      </geometry>
    </collision>
    <inertial>
      <!-- mass propaties should be corrected -->
      <mass value="4.219"/>
      <origin rpy="0 -0 0" xyz="0.02359 -0.12884 -0.02825"/>
      <inertia ixx="0.0527968" ixy="0" ixz="0" iyy="0.057042" iyz="0" izz="0.0492541"/>
    </inertial>
  </link>
  <gazebo reference="RARM_LINK7">
    <mu1>0.9</mu1>
    <mu2>0.9</mu2>
  </gazebo>
  <!-- HEAD -->
  <link name="head_root"/>
  <joint name="head_root_joint" type="fixed">
    <parent link="head_root"/>
    <child link="head"/>
  </joint>
  <link name="head">
    <inertial>
      <origin rpy="0 0 0" xyz="-0.075493 3.3383E-05 0.02774"/>
      <mass value="1.4199"/>
      <inertia ixx="0.0039688" ixy="-1.5797E-06" ixz="-0.00089293" iyy="0.0041178" iyz="-6.8415E-07" izz="0.0035243"/>
    </inertial>
    <visual>
      <origin rpy="0 0 0" xyz="0 0  0"/>
      <geometry>
        <mesh filename="package://multisense_description/meshes/head.dae"/>
      </geometry>
      <material name="">
        <color rgba="0.9098 0.44314 0.031373 1"/>
      </material>
    </visual>
    <collision>
      <origin rpy="0 0 0" xyz="-0.0503 0 -0.00195"/>
      <geometry>
        <box size="0.1311 0.12 0.0591"/>
      </geometry>
    </collision>
  </link>
  <joint name="left_camera_optical_joint" type="continuous">
    <parent link="left_camera_optical_frame"/>
    <child link="motor"/>
  </joint>
  <link name="motor"/>
  <link name="spindle"/>
  <joint name="motor_joint" type="continuous">
    <parent link="motor"/>
    <child link="spindle"/>
    <axis xyz="0 0 1"/>
  </joint>
  <joint name="spindle_joint" type="continuous">
    <parent link="spindle"/>
    <child link="hokuyo_link"/>
  </joint>
  <link name="hokuyo_link">
    <inertial>
      <origin rpy="0 0 0" xyz="0.012428 0.0004084 -0.0041835"/>
      <mass value="0.057664"/>
      <inertia ixx="3.7174E-05" ixy="4.9927E-08" ixz="1.1015E-05" iyy="4.2412E-05" iyz="-9.8165E-09" izz="4.167E-05"/>
    </inertial>
    <visual>
      <origin rpy="-1.9179632679 -1.57079632679 0" xyz="-.03 -.1 0"/>
      <geometry>
        <mesh filename="package://multisense_description/meshes/head_camera.dae"/>
      </geometry>
      <material name="">
        <color rgba="0.72941 0.35686 0.023529 1"/>
      </material>
    </visual>
    <collision>
      <origin rpy="0 0 0" xyz="0.03 0 0.0235"/>
      <geometry>
        <cylinder length="0.047" radius="0.024425"/>
      </geometry>
    </collision>
  </link>
  <link name="head_hokuyo_frame"/>
  <joint name="head_hokuyo_frame_joint" type="fixed">
    <!--
     This transform accounts for the fact ROS expects laser data in the x forward,
     y left, z up frame and the calibraton has the data in x left, y up, z forward.
     Thus a roll of -90 * a pitch of -90 will make the appropriate transform. Note
     Roll and pitch are both with respect to the origional x left, y up, z forward frame
     -->
    <origin rpy="-1.57079632679 -1.57079632679 0.0" xyz="0 0 0"/>
    <parent link="hokuyo_link"/>
    <child link="head_hokuyo_frame"/>
  </joint>
  <joint name="left_camera_frame_joint" type="fixed">
    <!-- optical frame collocated with tilting DOF -->
    <origin xyz="0.0 0.035 -0.002"/>
    <parent link="head"/>
    <child link="left_camera_frame"/>
  </joint>
  <link name="left_camera_frame">
    <inertial>
      <mass value="0.1"/>
      <origin xyz="0 0 0"/>
      <inertia ixx="0.001" ixy="0.0" ixz="0.0" iyy="0.001" iyz="0.0" izz="0.001"/>
    </inertial>
  </link>
  <joint name="left_camera_optical_frame_joint" type="fixed">
    <origin rpy="-1.57079632679 0.0 -1.57079632679" xyz="0 0 0"/>
    <parent link="left_camera_frame"/>
    <child link="left_camera_optical_frame"/>
  </joint>
  <link name="left_camera_optical_frame"/>
  <joint name="right_camera_frame_joint" type="fixed">
    <origin xyz="0.0 -0.035 -0.002"/>
    <parent link="head"/>
    <child link="right_camera_frame"/>
  </joint>
  <link name="right_camera_frame">
    <inertial>
      <mass value="0.1"/>
      <origin xyz="0 0 0"/>
      <inertia ixx="0.001" ixy="0.0" ixz="0.0" iyy="0.001" iyz="0.0" izz="0.001"/>
    </inertial>
  </link>
  <joint name="right_camera_optical_frame_joint" type="fixed">
    <origin rpy="-1.5708 0.0 -1.5708" xyz="0 0 0"/>
    <parent link="right_camera_frame"/>
    <child link="right_camera_optical_frame"/>
  </joint>
  <link name="right_camera_optical_frame"/>
  <joint name="center_top_led_frame_joint" type="fixed">
    <origin xyz="0.01125 0.0 0.0105"/>
    <parent link="head"/>
    <child link="center_top_led_frame"/>
  </joint>
  <link name="center_top_led_frame">
    <inertial>
      <mass value="0.1"/>
      <origin xyz="0 0 0"/>
      <inertia ixx="0.001" ixy="0.0" ixz="0.0" iyy="0.001" iyz="0.0" izz="0.001"/>
    </inertial>
  </link>
  <joint name="center_bottom_led_frame_joint" type="fixed">
    <origin xyz="0.01125 0.0 -0.0155"/>
    <parent link="head"/>
    <child link="center_bottom_led_frame"/>
  </joint>
  <link name="center_bottom_led_frame">
    <inertial>
      <mass value="0.1"/>
      <origin xyz="0 0 0"/>
      <inertia ixx="0.001" ixy="0.0" ixz="0.0" iyy="0.001" iyz="0.0" izz="0.001"/>
    </inertial>
  </link>
  <joint name="left_led_frame_joint" type="fixed">
    <origin rpy="0 -0.15 0.53" xyz="-0.01443 0.07452 0.050346"/>
    <parent link="head"/>
    <child link="left_led_frame"/>
  </joint>
  <link name="left_led_frame">
    <inertial>
      <mass value="0.1"/>
      <origin xyz="0 0 0"/>
      <inertia ixx="0.001" ixy="0.0" ixz="0.0" iyy="0.001" iyz="0.0" izz="0.001"/>
    </inertial>
  </link>
  <joint name="right_led_frame_joint" type="fixed">
    <origin rpy="0 -0.15 -0.53" xyz="-0.01443 -0.07452 0.050346"/>
    <parent link="head"/>
    <child link="right_led_frame"/>
  </joint>
  <link name="right_led_frame">
    <inertial>
      <mass value="0.1"/>
      <origin xyz="0 0 0"/>
      <inertia ixx="0.001" ixy="0.0" ixz="0.0" iyy="0.001" iyz="0.0" izz="0.001"/>
    </inertial>
  </link>
  <link name="accel"/>
  <joint name="accel_joint" type="fixed">
    <origin rpy="0 1.5707 0" xyz="-.0475 .0302 -.00275"/>
    <parent link="head_root"/>
    <child link="accel"/>
  </joint>
  <link name="mag"/>
  <joint name="mag_joint" type="fixed">
    <origin rpy="0 1.5707 0" xyz="-.0475 .0302 -.00275"/>
    <parent link="head_root"/>
    <child link="mag"/>
  </joint>
  <link name="gyro"/>
  <joint name="gyro_joint" type="fixed">
    <origin rpy="1.5707 3.14159 1.5707 " xyz="-.0476 .0388 -.00075"/>
    <parent link="head_root"/>
    <child link="gyro"/>
  </joint>
  <joint name="head_tip_to_multisense" type="fixed">
    <parent link="HEAD_LINK1"/>
    <child link="head_root"/>
    <!-- <origin rpy="-0.01 0.01 0.017" xyz="0.08 0.01 0.045"/> -->
    <!-- For leg -->
    <origin rpy="-0.01 0.035 -0.005" xyz="0.085 0.01 0.065"/>
    <!-- <rigin rpy="-0.01 0.02 0.017" xyz="0.07 -0.01 0.045"/> old -->
    <!-- <origin rpy="-0.01 0.01 0.017" xyz="0.09 0.01 0.055"/>  -->
    <!--middle-->
    <!-- <origin rpy="-0.01 0.01 0.017" xyz="0.10 0.01 0.065"/> -->
    <!-- For hand -->
  </joint>
  <!-- HAND -->
  <link name="L_thk_palm">
    <inertial>
      <origin rpy="0 0 0" xyz="0.0835 0 -0.0181"/>
      <mass value="0.8"/>
      <inertia ixx="0.001314416" ixy="0" ixz="0" iyy="0.002746271" iyz="0" izz="0.002284148"/>
    </inertial>
    <visual>
      <geometry>
        <mesh filename="package://jaxon_description/hand_meshes/THK_003_palm.stl"/>
      </geometry>
      <material name="blue">
        <color rgba="0.0 0.0 0.8 1.0"/>
      </material>
    </visual>
    <collision>
      <origin rpy="0 0 0" xyz="0.054 0 0"/>
      <geometry>
        <mesh filename="package://jaxon_description/hand_meshes/THK_003_palm.stl"/>
      </geometry>
    </collision>
  </link>
  <link name="L_thk_finger1">
    <inertial>
      <origin rpy="0 0 0" xyz="0.021 0 -0.04556"/>
      <mass value="0.2"/>
      <inertia ixx="2.980527e-04" ixy="0" ixz="0" iyy="3.552534e-04" iyz="0" izz="7.05341e-5"/>
    </inertial>
    <visual>
      <origin rpy="0 0 0" xyz="0.0 0 0"/>
      <geometry>
        <mesh filename="package://jaxon_description/hand_meshes/THK_003_finger1.stl"/>
      </geometry>
      <material name="blue"/>
    </visual>
    <collision>
      <origin rpy="0 0 0" xyz="0.0 0 0"/>
      <geometry>
        <mesh filename="package://jaxon_description/hand_meshes/THK_003_finger1.stl"/>
      </geometry>
    </collision>
  </link>
  <link name="L_thk_finger2">
    <inertial>
      <origin rpy="0 0 0" xyz="0.0577 0 -0.0151"/>
      <mass value="0.4"/>
      <inertia ixx="3.570504e-04" ixy="0" ixz="0" iyy="8.546976e-04" iyz="0" izz="8.168899e-04"/>
    </inertial>
    <visual>
      <origin rpy="0 0 0" xyz="0 0 0"/>
      <geometry>
        <mesh filename="package://jaxon_description/hand_meshes/THK_003_finger2.stl"/>
      </geometry>
      <material name="blue"/>
    </visual>
    <collision>
      <origin rpy="0 0 0" xyz="0 0 0"/>
      <geometry>
        <mesh filename="package://jaxon_description/hand_meshes/THK_003_finger2.stl"/>
      </geometry>
    </collision>
  </link>
  <joint name="L_thk_finger1_joint" type="revolute">
    <origin rpy="0 0 0" xyz="0.089 0 -0.055"/>
    <parent link="L_thk_palm"/>
    <child link="L_thk_finger1"/>
    <axis xyz="0 1 0"/>
    <limit effort="20" lower="-1.6" upper="0" velocity="4"/>
  </joint>
  <joint name="L_thk_finger2_joint" type="revolute">
    <origin rpy="0 0 0" xyz="0.089 0 0.055"/>
    <parent link="L_thk_palm"/>
    <child link="L_thk_finger2"/>
    <axis xyz="0 1 0"/>
    <limit effort="20" lower="0" upper="1.6" velocity="4"/>
  </joint>
  <joint name="L_thk_palm" type="fixed">
    <origin rpy="-1.5707963268 1.5707963268 0" xyz="0 0 -0.085"/>
    <parent link="LARM_LINK7"/>
    <child link="L_thk_palm"/>
  </joint>
  <link name="R_thk_palm">
    <inertial>
      <origin rpy="0 0 0" xyz="0.0835 0 -0.0181"/>
      <mass value="0.8"/>
      <inertia ixx="0.001314416" ixy="0" ixz="0" iyy="0.002746271" iyz="0" izz="0.002284148"/>
    </inertial>
    <visual>
      <geometry>
        <mesh filename="package://jaxon_description/hand_meshes/THK_003_palm.stl"/>
      </geometry>
      <material name="blue">
        <color rgba="0.0 0.0 0.8 1.0"/>
      </material>
    </visual>
    <collision>
      <origin rpy="0 0 0" xyz="0.054 0 0"/>
      <geometry>
        <mesh filename="package://jaxon_description/hand_meshes/THK_003_palm.stl"/>
      </geometry>
    </collision>
  </link>
  <link name="R_thk_finger1">
    <inertial>
      <origin rpy="0 0 0" xyz="0.021 0 -0.04556"/>
      <mass value="0.2"/>
      <inertia ixx="2.980527e-04" ixy="0" ixz="0" iyy="3.552534e-04" iyz="0" izz="7.05341e-5"/>
    </inertial>
    <visual>
      <origin rpy="0 0 0" xyz="0.0 0 0"/>
      <geometry>
        <mesh filename="package://jaxon_description/hand_meshes/THK_003_finger1.stl"/>
      </geometry>
      <material name="blue"/>
    </visual>
    <collision>
      <origin rpy="0 0 0" xyz="0.0 0 0"/>
      <geometry>
        <mesh filename="package://jaxon_description/hand_meshes/THK_003_finger1.stl"/>
      </geometry>
    </collision>
  </link>
  <link name="R_thk_finger2">
    <inertial>
      <origin rpy="0 0 0" xyz="0.0577 0 -0.0151"/>
      <mass value="0.4"/>
      <inertia ixx="3.570504e-04" ixy="0" ixz="0" iyy="8.546976e-04" iyz="0" izz="8.168899e-04"/>
    </inertial>
    <visual>
      <origin rpy="0 0 0" xyz="0 0 0"/>
      <geometry>
        <mesh filename="package://jaxon_description/hand_meshes/THK_003_finger2.stl"/>
      </geometry>
      <material name="blue"/>
    </visual>
    <collision>
      <origin rpy="0 0 0" xyz="0 0 0"/>
      <geometry>
        <mesh filename="package://jaxon_description/hand_meshes/THK_003_finger2.stl"/>
      </geometry>
    </collision>
  </link>
  <joint name="R_thk_finger1_joint" type="revolute">
    <origin rpy="0 0 0" xyz="0.089 0 -0.055"/>
    <parent link="R_thk_palm"/>
    <child link="R_thk_finger1"/>
    <axis xyz="0 1 0"/>
    <limit effort="20" lower="-1.6" upper="0" velocity="4"/>
  </joint>
  <joint name="R_thk_finger2_joint" type="revolute">
    <origin rpy="0 0 0" xyz="0.089 0 0.055"/>
    <parent link="R_thk_palm"/>
    <child link="R_thk_finger2"/>
    <axis xyz="0 1 0"/>
    <limit effort="20" lower="0" upper="1.6" velocity="4"/>
  </joint>
  <joint name="R_thk_palm" type="fixed">
    <origin rpy="1.5707963268 1.5707963268 0" xyz="0 0 -0.085"/>
    <parent link="RARM_LINK7"/>
    <child link="R_thk_palm"/>
  </joint>
</robot>
